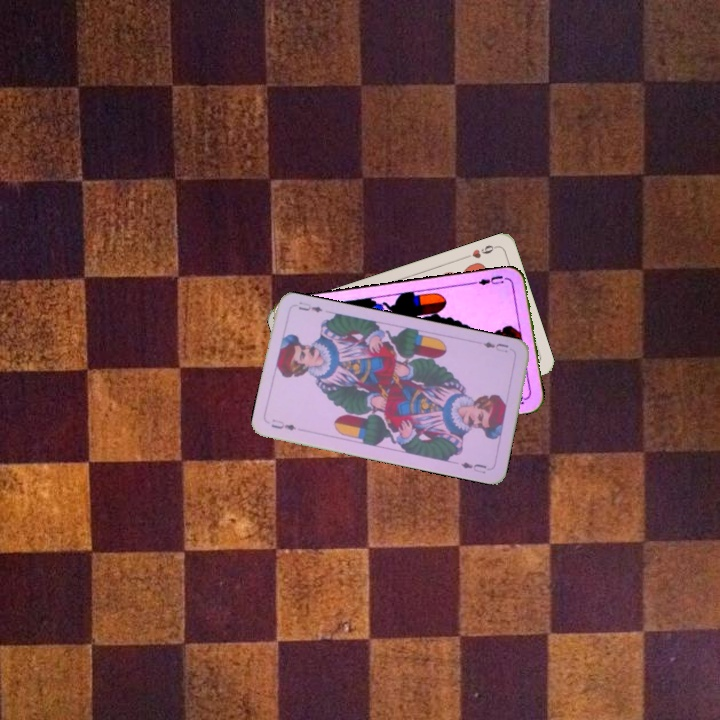EU: (267, 415, 299, 433), (479, 338, 511, 355), (475, 271, 506, 288)
H9: (460, 241, 500, 261)
